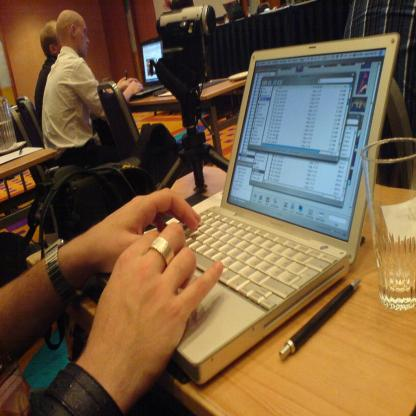board: (169, 31, 402, 386), (135, 38, 164, 97)
